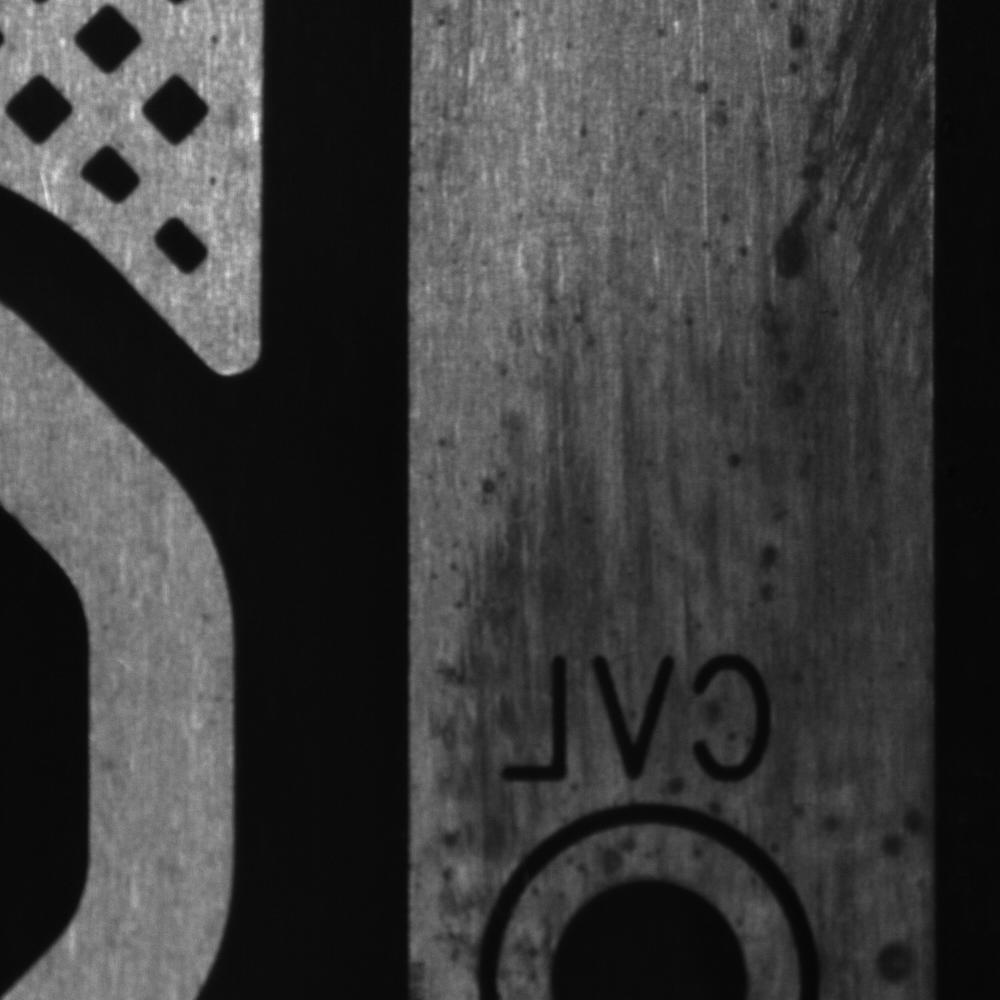Discolor: (697, 331, 929, 624), (765, 5, 929, 329), (823, 632, 933, 991), (507, 322, 690, 521), (447, 526, 686, 636), (442, 640, 518, 876)
Etching: (674, 62, 744, 145), (695, 208, 756, 277)
